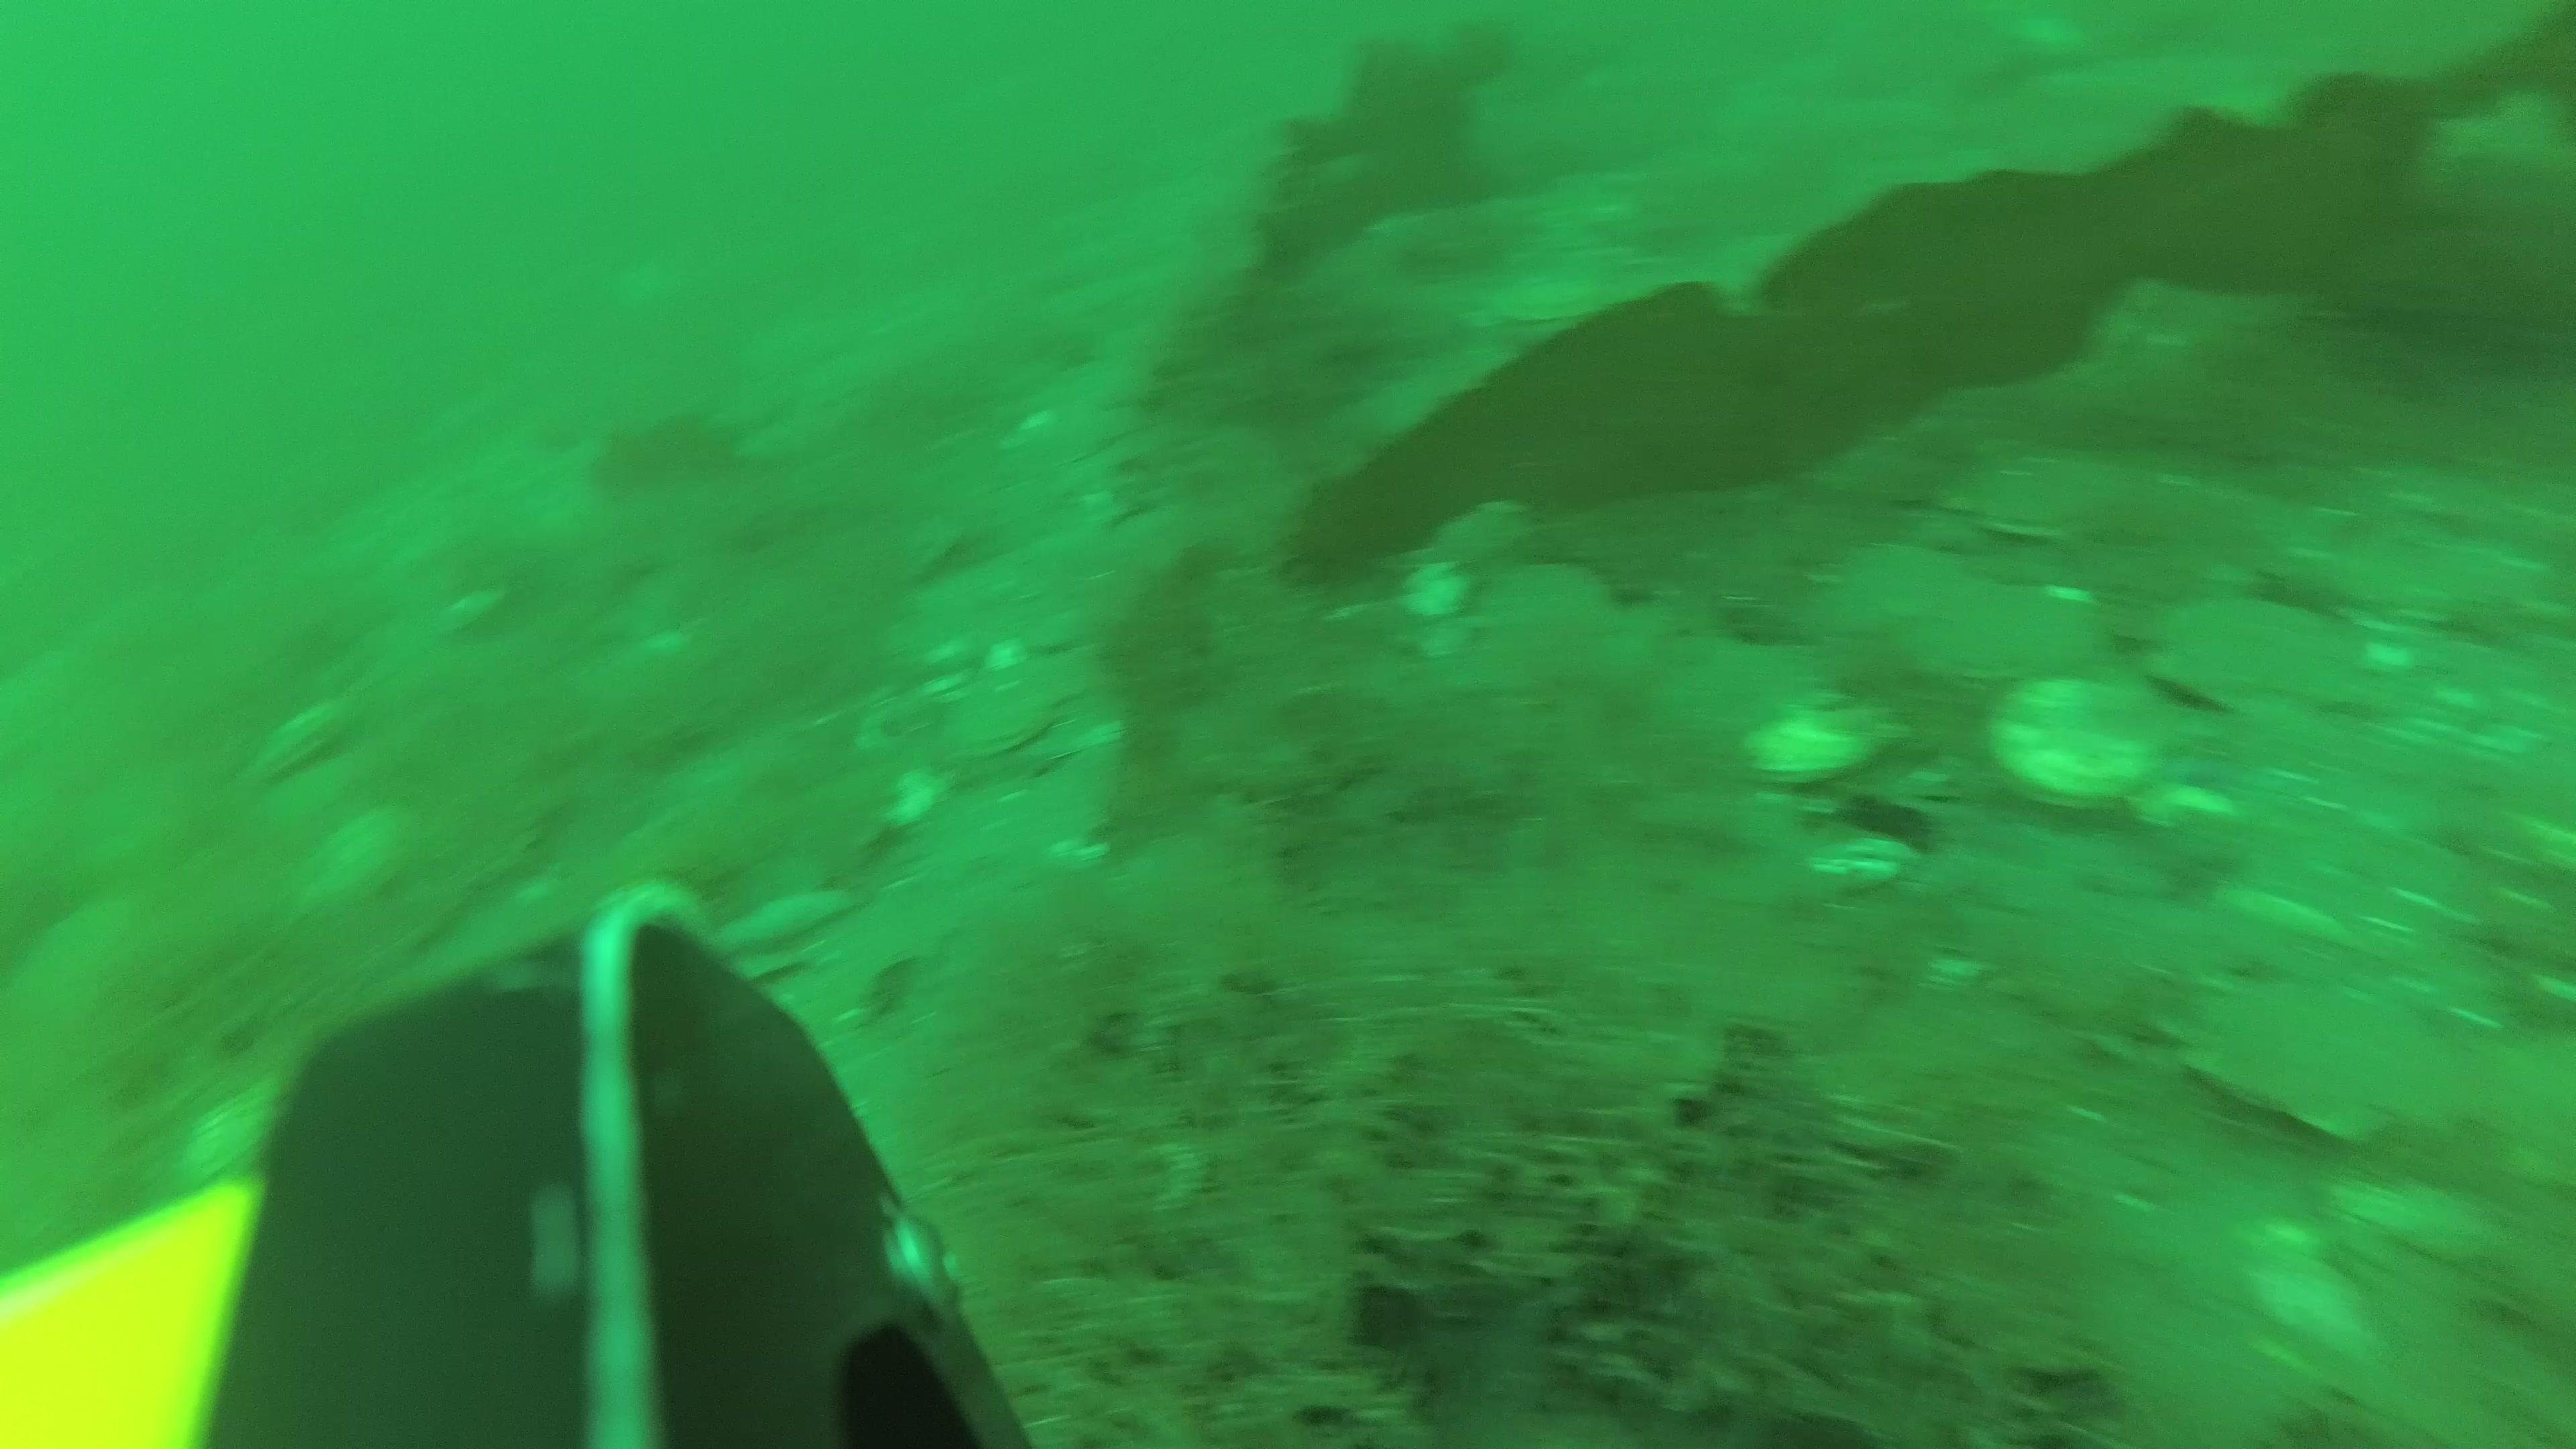scallop: (2196, 977, 2463, 1146), (2171, 593, 2357, 732), (1997, 671, 2162, 819), (1898, 564, 2065, 692), (1969, 444, 2135, 552), (1805, 529, 1950, 635), (1746, 683, 1882, 787), (1486, 559, 1617, 653), (947, 679, 1054, 766), (246, 706, 352, 780)
